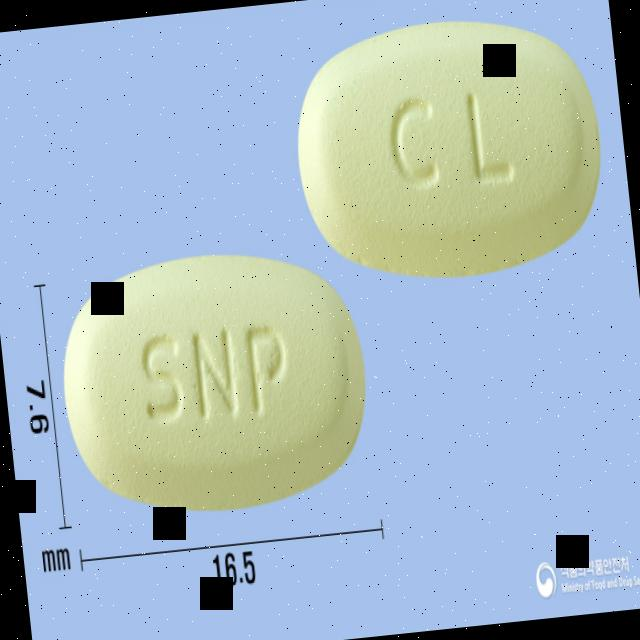A Progen Clarithromycin Tab-500mg: (49, 240, 380, 530), (284, 2, 612, 292)
